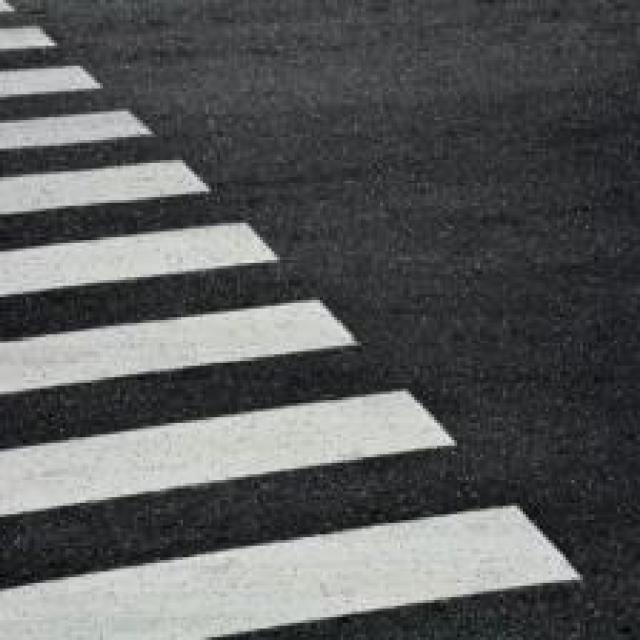walk-crossing: (0, 0, 609, 637)
